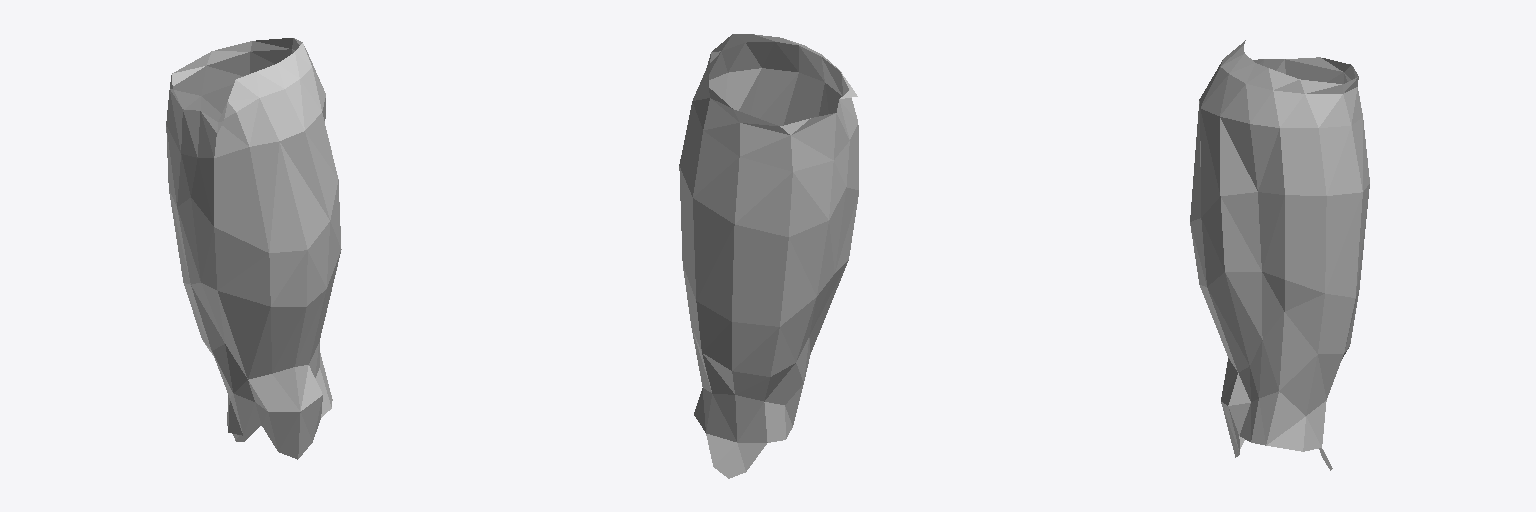
Rendered from Leg_Upper_Left.obj.
3 renders of one model, left to right at view 1: azimuth 30°, elevation 25°; view 2: azimuth 150°, elevation 25°; view 3: azimuth 270°, elevation 25°, orthographic.
Visible parts, largest first — view 1: Leg_Upper_Cube.036; view 2: Leg_Upper_Cube.036; view 3: Leg_Upper_Cube.036.
Part boxes in pixels (left/top/right/bottom): Leg_Upper_Cube.036: left=166, top=38, right=341, bottom=459; Leg_Upper_Cube.036: left=679, top=34, right=858, bottom=478; Leg_Upper_Cube.036: left=1190, top=40, right=1369, bottom=470.
Bounding box in the file's own units: 4.36 × 12.06 × 4.73.